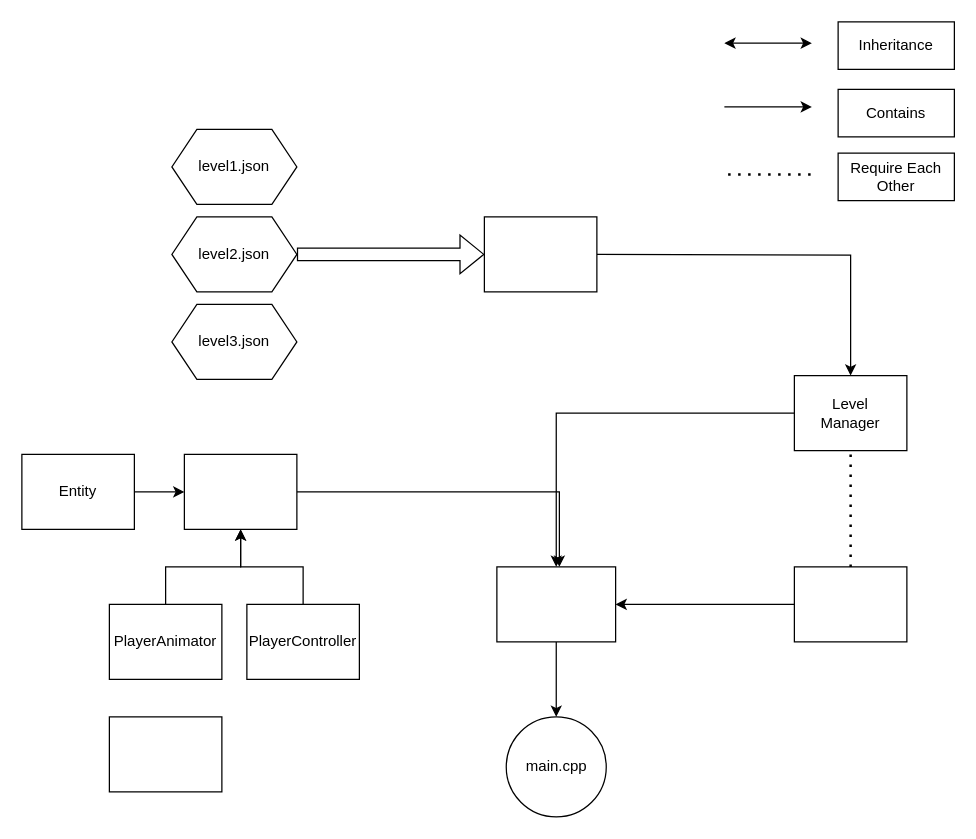
The diagram is 976 pixels wide and 839 high, and some of its shapes have lost their labels. Each missing label, with the box of its shape:
Animator: (108, 716, 222, 792)
Game: (496, 566, 616, 642)
Map: (793, 566, 907, 642)
MapLoader: (483, 216, 597, 292)
Player: (183, 453, 297, 529)
